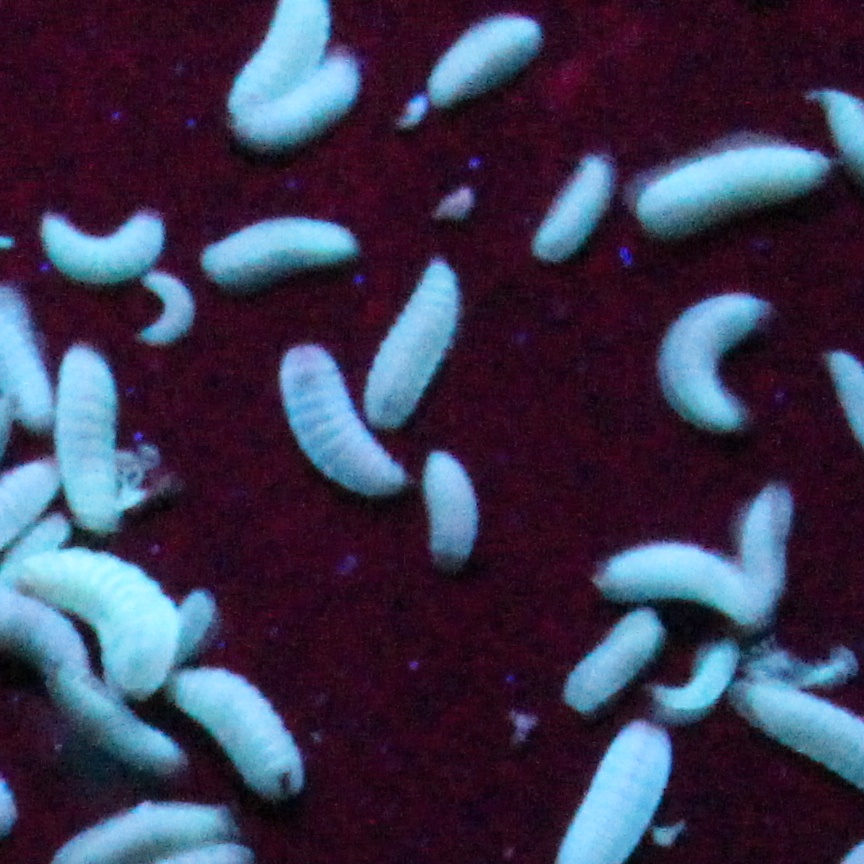larve: (17, 551, 188, 690), (271, 341, 398, 508), (637, 138, 837, 238), (176, 658, 308, 796), (366, 264, 463, 432), (598, 532, 772, 622), (671, 294, 758, 434), (59, 683, 185, 767), (37, 206, 169, 283), (427, 19, 534, 112), (201, 216, 359, 277), (246, 61, 359, 145), (530, 158, 614, 267), (559, 616, 659, 706), (424, 451, 488, 574), (737, 477, 798, 600), (669, 651, 737, 716)
